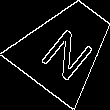N_NE: (33, 15, 98, 79)
